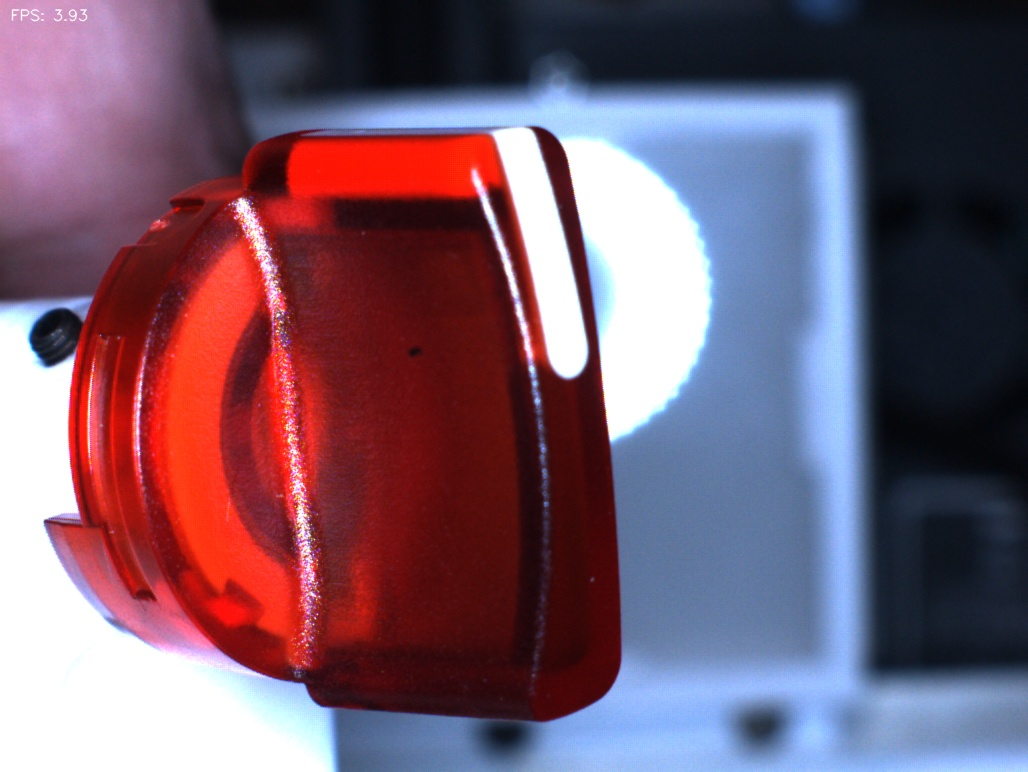PointNoir: (376, 306, 449, 397)
